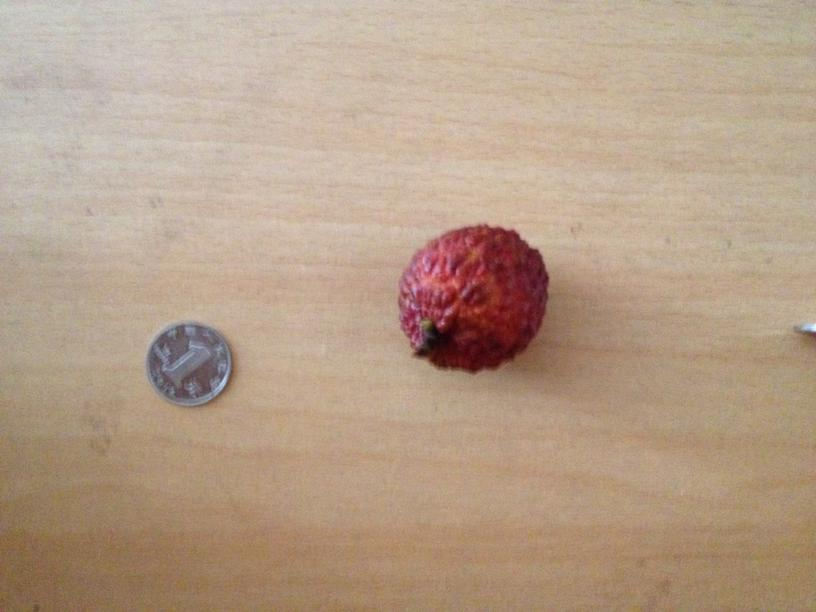coin: (148, 323, 229, 404)
litchi: (397, 219, 545, 372)
